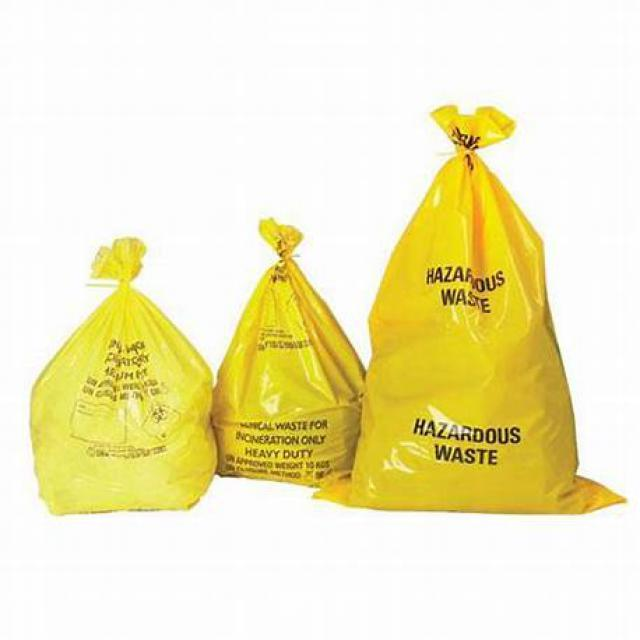waste: (366, 103, 616, 512), (20, 235, 214, 513), (214, 212, 359, 484)
